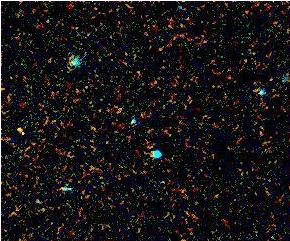star: (3, 117, 33, 147)
